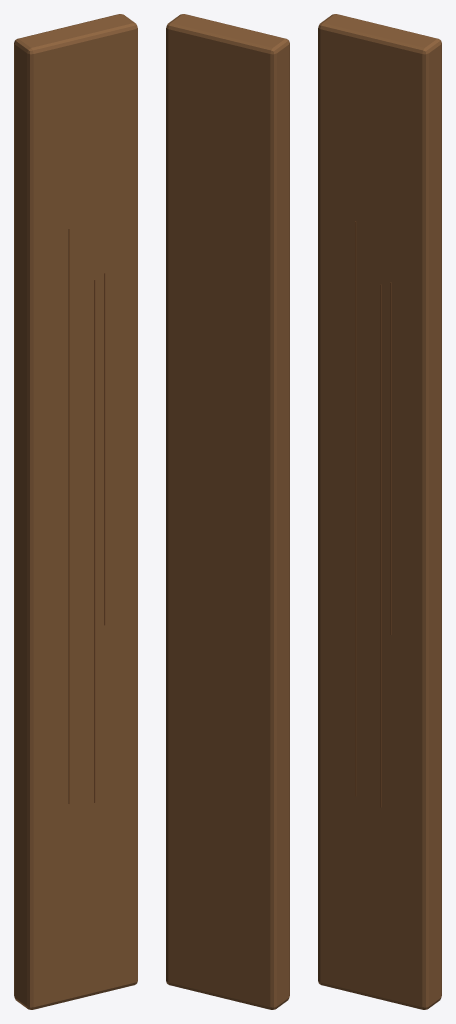
File: SM_WoodPlank_200.fbx
3 views of the same model, side by side, from view 1: azimuth 30°, elevation 25°; view 2: azimuth 150°, elevation 25°; view 3: azimuth 330°, elevation 25° (orthographic).
Visible parts, largest first — view 1: SM_WoodPlank_200; view 2: SM_WoodPlank_200; view 3: SM_WoodPlank_200.
Boxes of the visible parts, <box> form: SM_WoodPlank_200: <box>14,14,137,1009</box>; SM_WoodPlank_200: <box>166,14,289,1009</box>; SM_WoodPlank_200: <box>318,14,441,1009</box>.
Size of what is drawn, in the model's own units: 0.24 by 0.0666 by 2.
